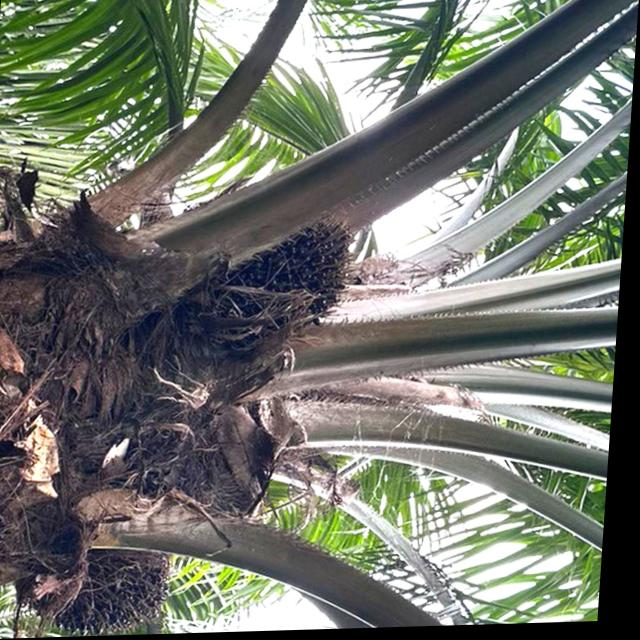unripe: (197, 204, 373, 362)
